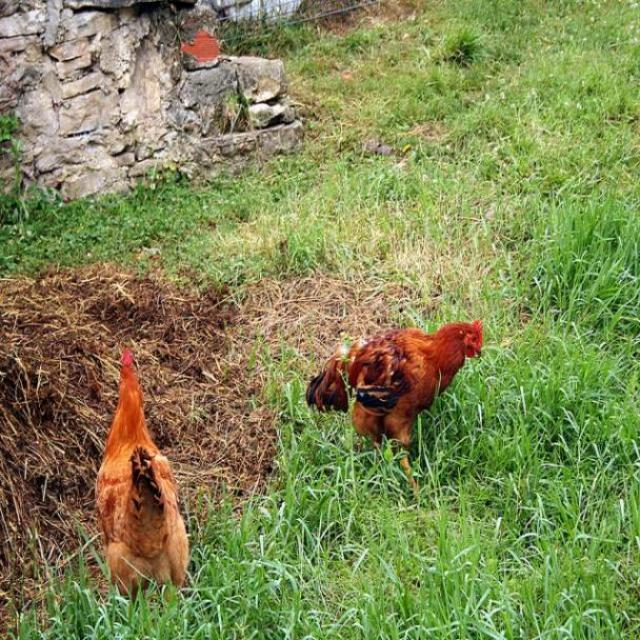Chicken: (303, 324, 486, 498), (93, 359, 188, 618)
